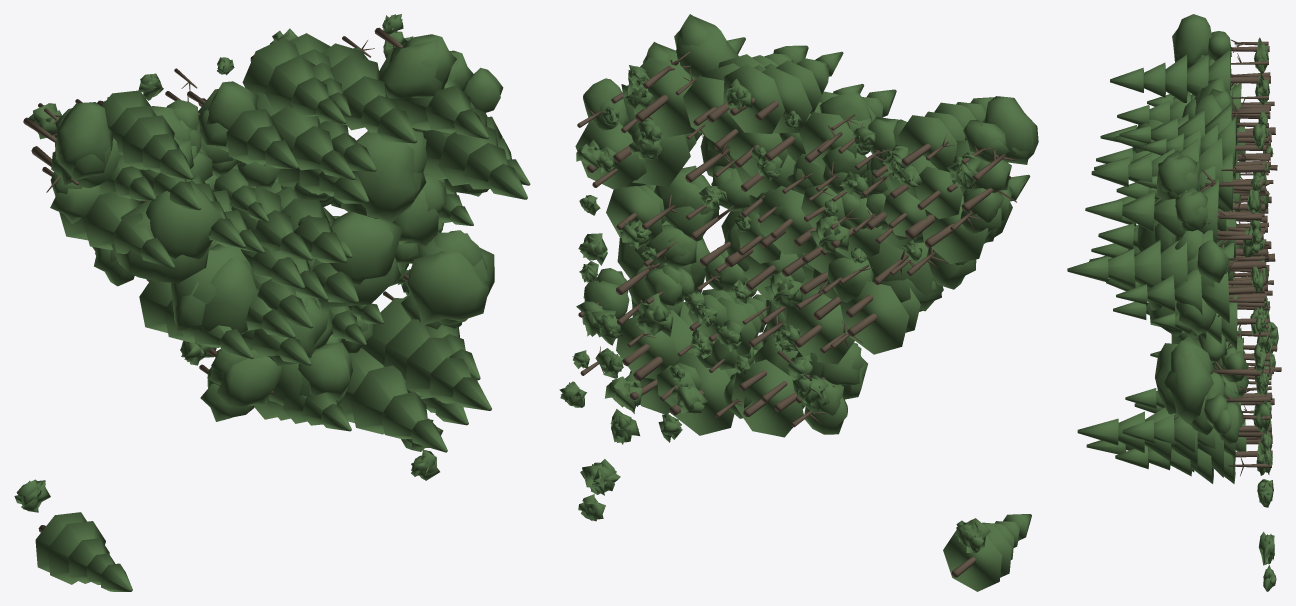
Rendered from batch_VEG_n003_p002.glb.
3 views of the same model, side by side, from view 1: azimuth 30°, elevation 25°; view 2: azimuth 150°, elevation 25°; view 3: azimuth 270°, elevation 25° (orthographic). The views are drawn at different scales.
Visible parts, largest first — view 1: SAR_Bush_0003.001; view 2: SAR_Bush_0003.001; view 3: SAR_Bush_0003.001.
Part boxes in pixels (bbox=[...]): SAR_Bush_0003.001: bbox=[14, 14, 530, 591]; SAR_Bush_0003.001: bbox=[559, 14, 1038, 591]; SAR_Bush_0003.001: bbox=[1067, 14, 1281, 591].
Size of the model in its own units: 51.22 by 53.91 by 24.95.
